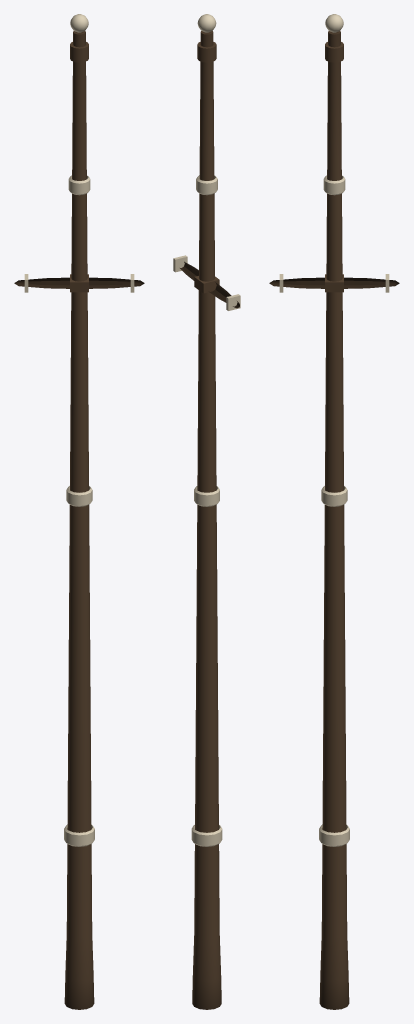
Rendered from mast.glb.
The picture shows the model from 3 angles, left to right: view 1: azimuth 90°, elevation 25°; view 2: azimuth 210°, elevation 25°; view 3: azimuth 270°, elevation 25°; orthographic projection.
Visible parts, largest first — view 1: mast, rings; view 2: mast, rings; view 3: mast, rings.
Boxes of the visible parts, left/top/right/bottom form: mast: left=14, top=31, right=144, bottom=1009; rings: left=24, top=14, right=134, bottom=846; mast: left=180, top=31, right=239, bottom=1009; rings: left=173, top=14, right=240, bottom=846; mast: left=269, top=31, right=399, bottom=1009; rings: left=279, top=14, right=389, bottom=846.
Size of the model in its own units: 0.1986 by 7 by 0.84.
